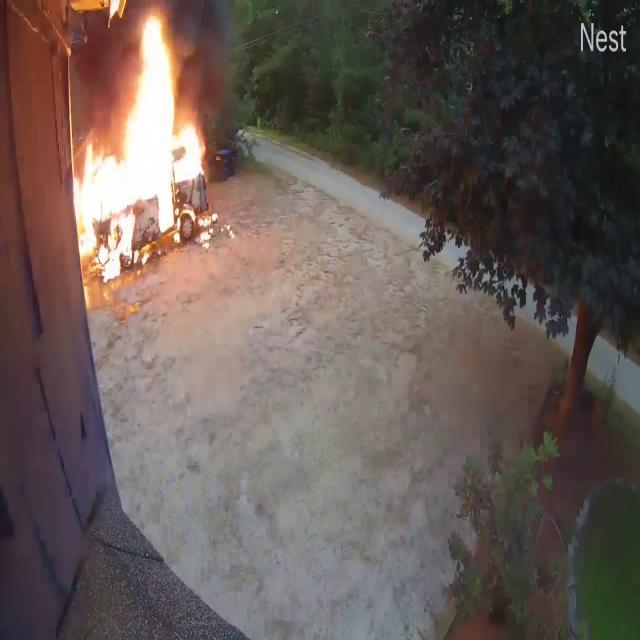Fire: (72, 8, 214, 270)
